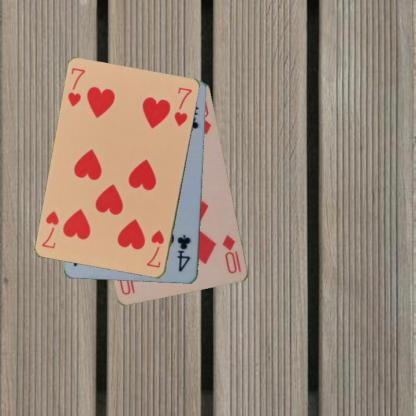10d: (220, 232, 243, 275)
4c: (174, 232, 192, 274)
7h: (66, 65, 88, 109), (144, 228, 166, 269)
